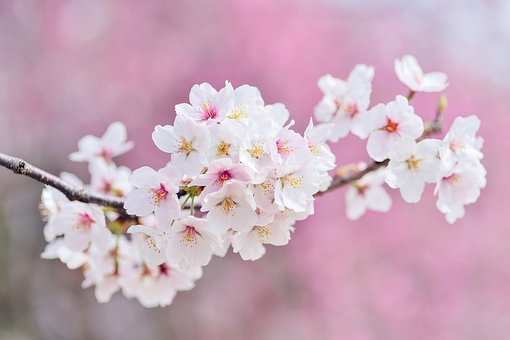flower: (24, 71, 495, 306)
